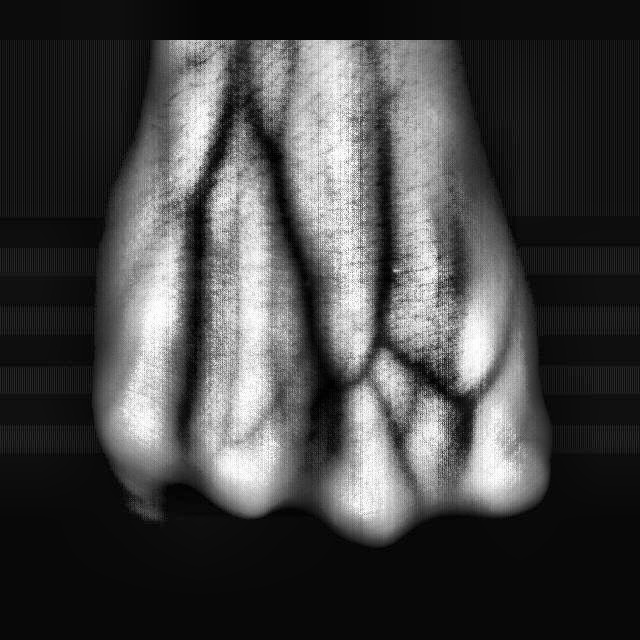Vein: (261, 151, 331, 358), (175, 193, 218, 377)
